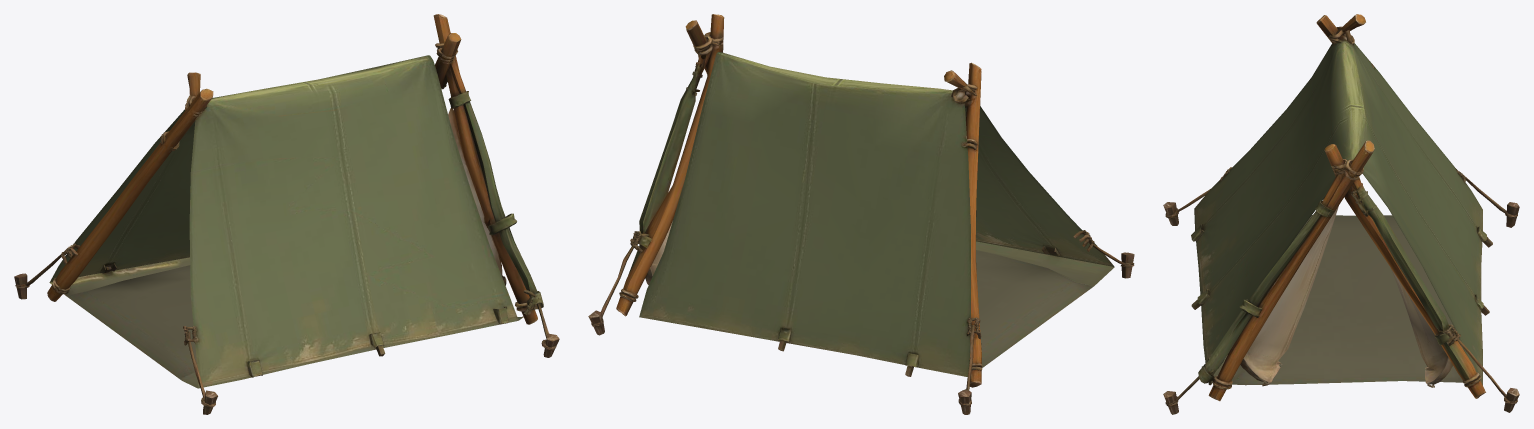
The model's file is camp-tent.glb.
The picture shows the model from 3 angles, left to right: view 1: azimuth 30°, elevation 25°; view 2: azimuth 150°, elevation 25°; view 3: azimuth 270°, elevation 25°; orthographic projection. The views are drawn at different scales.
Parts seen in each view (by area): view 1: tripo_node_64883e30-5b60-45ce-83e0-228fdc5a9269; view 2: tripo_node_64883e30-5b60-45ce-83e0-228fdc5a9269; view 3: tripo_node_64883e30-5b60-45ce-83e0-228fdc5a9269.
Boxes of the visible parts, left/top/right/bottom form: tripo_node_64883e30-5b60-45ce-83e0-228fdc5a9269: left=14, top=14, right=559, bottom=414; tripo_node_64883e30-5b60-45ce-83e0-228fdc5a9269: left=588, top=14, right=1134, bottom=414; tripo_node_64883e30-5b60-45ce-83e0-228fdc5a9269: left=1163, top=14, right=1519, bottom=414.
Bounding box in the file's own units: 0.998 × 0.7051 × 0.8301.
Materials: 1 (1 with a texture image).
